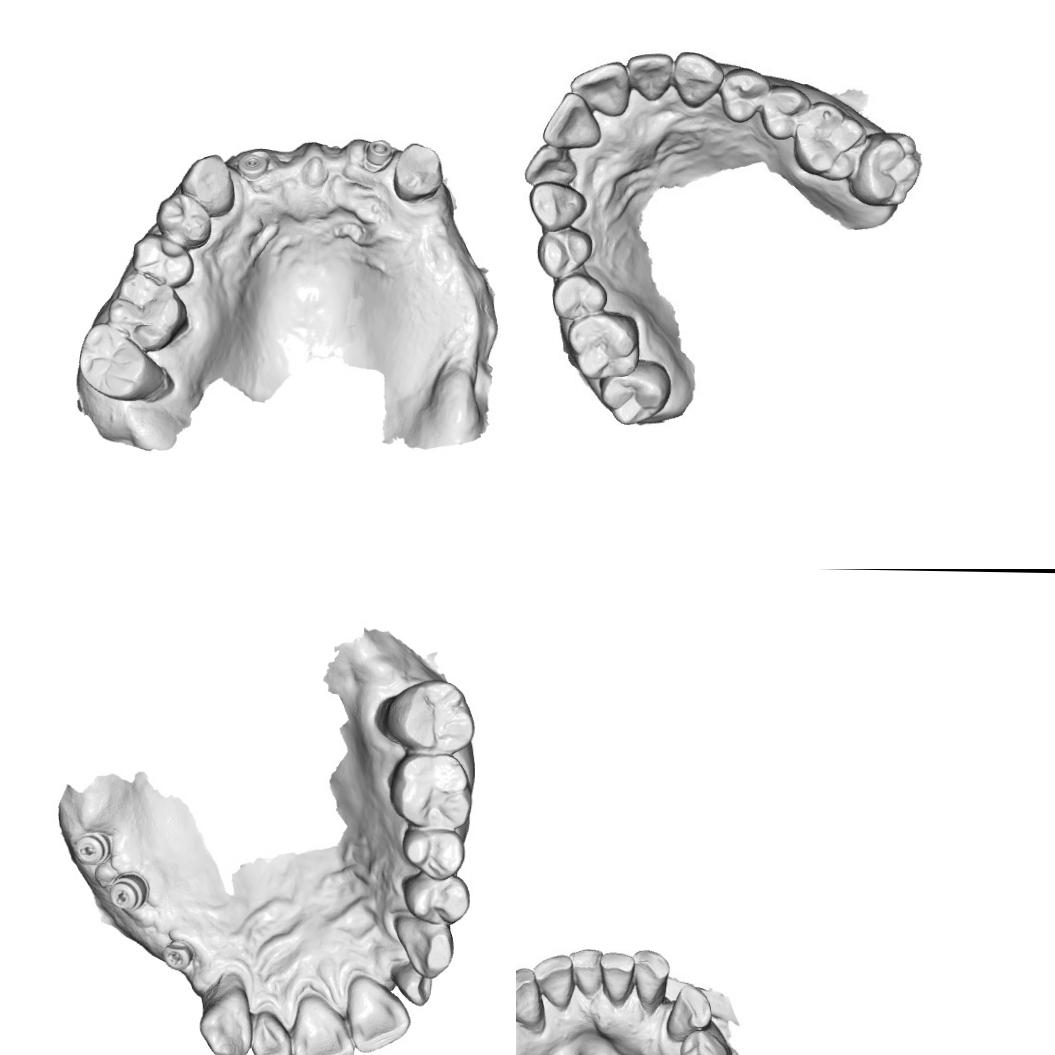canine: (197, 973, 253, 1055), (392, 914, 458, 980), (178, 152, 236, 218), (670, 47, 725, 111), (522, 182, 588, 232), (392, 141, 444, 203), (662, 982, 712, 1043), (516, 965, 547, 1030)
implant: (361, 138, 394, 172), (236, 150, 270, 181)
implant_minus: (108, 872, 150, 912), (71, 830, 112, 868)
implant_plus: (159, 938, 196, 972)
incisor: (344, 974, 414, 1054), (536, 89, 604, 151), (289, 993, 356, 1055), (566, 58, 630, 120), (623, 46, 674, 102), (628, 950, 670, 1006), (522, 142, 576, 185), (538, 954, 576, 1010), (390, 961, 433, 1007), (249, 1009, 292, 1055), (600, 954, 632, 1002), (572, 952, 604, 998)
molar: (74, 319, 172, 403), (374, 677, 476, 756), (388, 751, 473, 829), (106, 272, 188, 352), (791, 102, 868, 179), (849, 130, 924, 207), (594, 358, 674, 426), (564, 312, 638, 378)
premolar: (401, 870, 471, 926), (130, 230, 195, 290), (154, 190, 214, 249), (401, 827, 466, 881), (534, 228, 595, 278), (758, 84, 810, 140), (547, 274, 607, 322), (718, 66, 768, 122), (675, 1033, 731, 1055)
